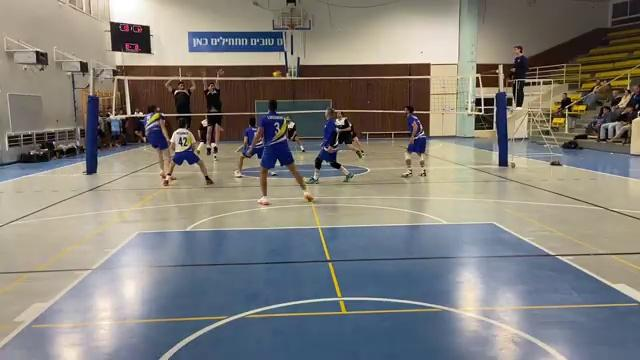ball: (271, 69, 284, 81)
